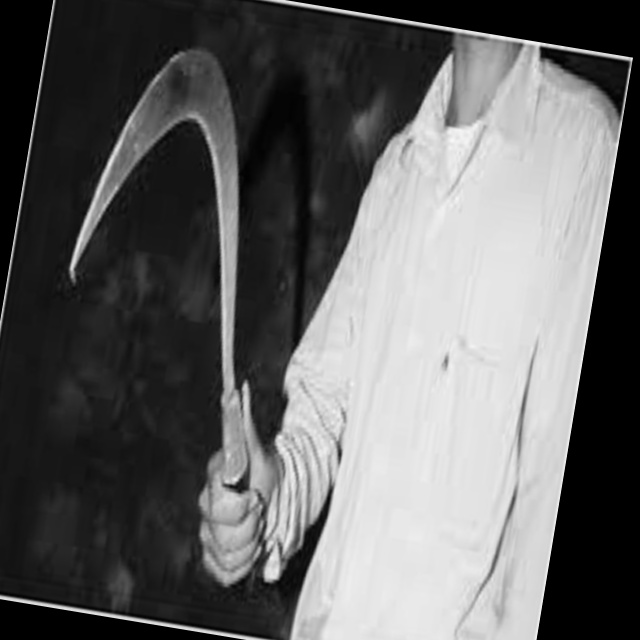Sharp-Object: (13, 30, 343, 587)
